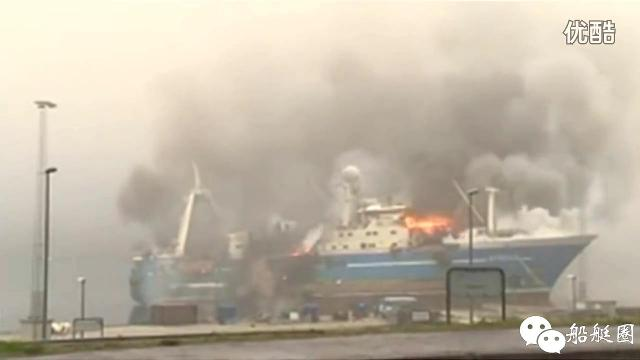fire: (406, 216, 452, 230)
